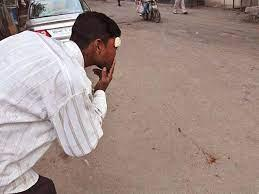spitting: (3, 8, 227, 192)
